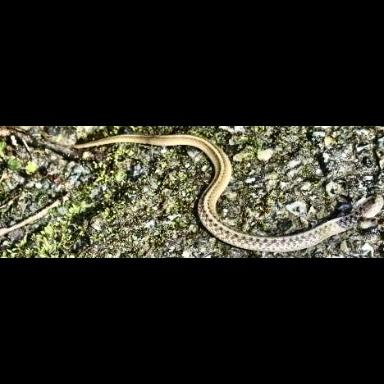snake: (74, 135, 383, 250)
